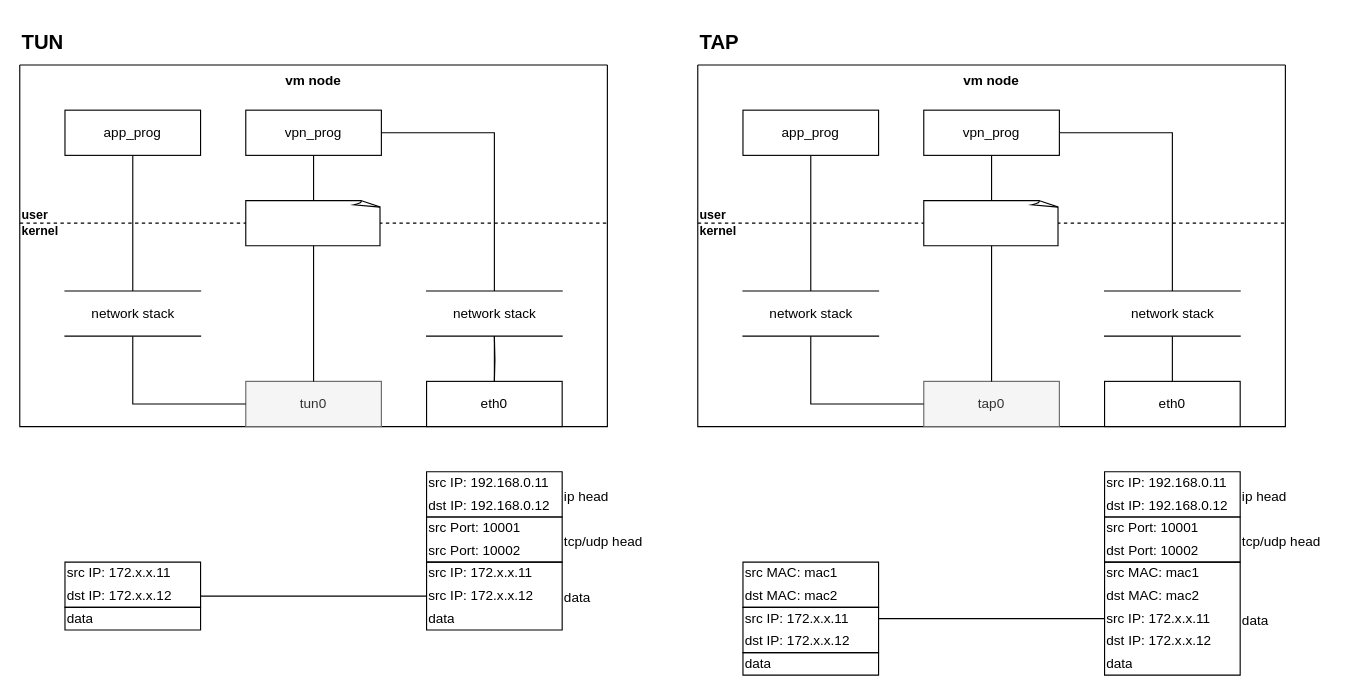
Some shapes in this 1350 by 695 pixel diagram are drawn without their labels. The box of each missing label's shape, as (x1, y1, x2, y2) in pixels:
/dev/tap0: (923, 199, 1059, 246)
/dev/tun0: (245, 199, 381, 246)
